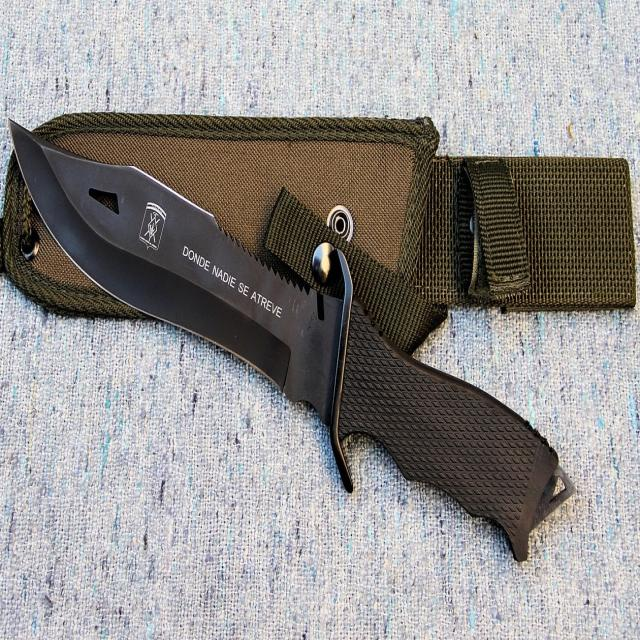knife: (3, 106, 577, 567)
